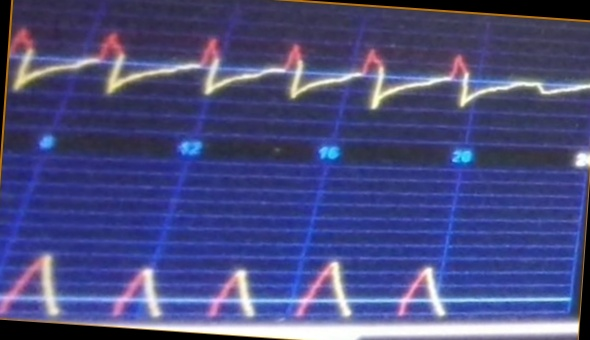Ineffective_effort Flow: (10, 25, 590, 124)
Ineffective_effort Volume: (1, 243, 462, 319)
